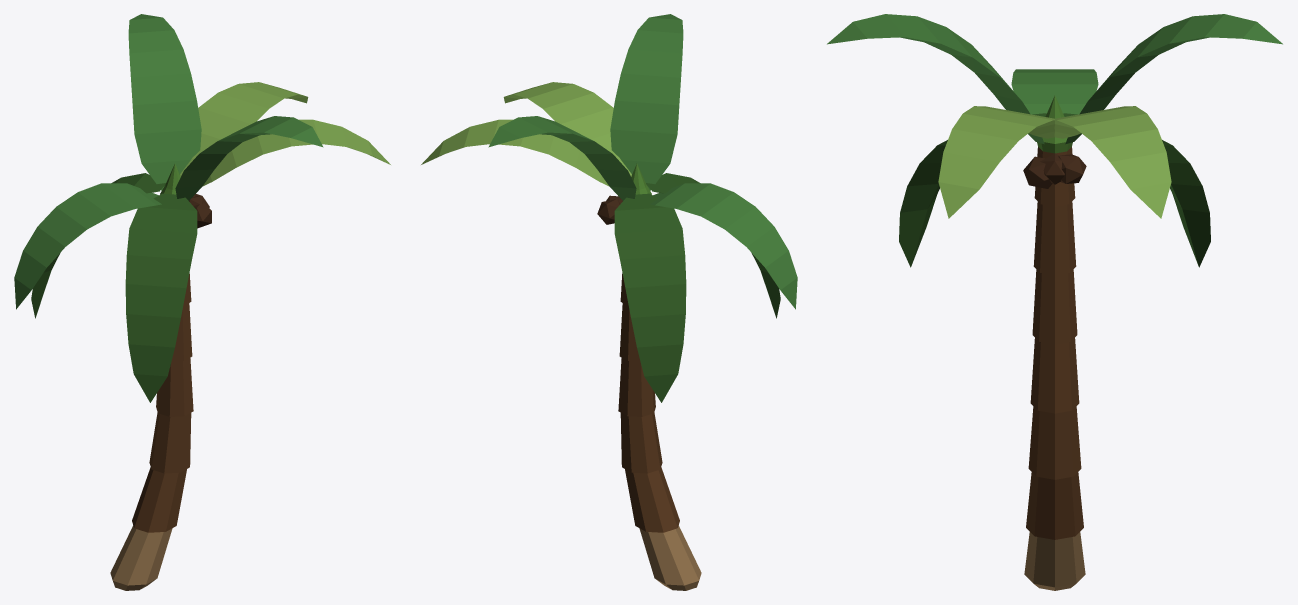
File: palm-tree-a307da.glb
3 renders of one model, left to right at view 1: azimuth 30°, elevation 25°; view 2: azimuth 150°, elevation 25°; view 3: azimuth 270°, elevation 25°, orthographic. The views are drawn at different scales.
Visible parts, largest first — view 1: palm-tree-body; view 2: palm-tree-body; view 3: palm-tree-body, coconut-cluster.
Boxes of the visible parts, box(x1,y1,x2,y2) form: palm-tree-body: box(14, 14, 390, 590); palm-tree-body: box(421, 14, 797, 590); palm-tree-body: box(827, 14, 1282, 590); coconut-cluster: box(1023, 153, 1086, 188).
Bounding box in the file's own units: 4.29 × 5.97 × 4.07.
